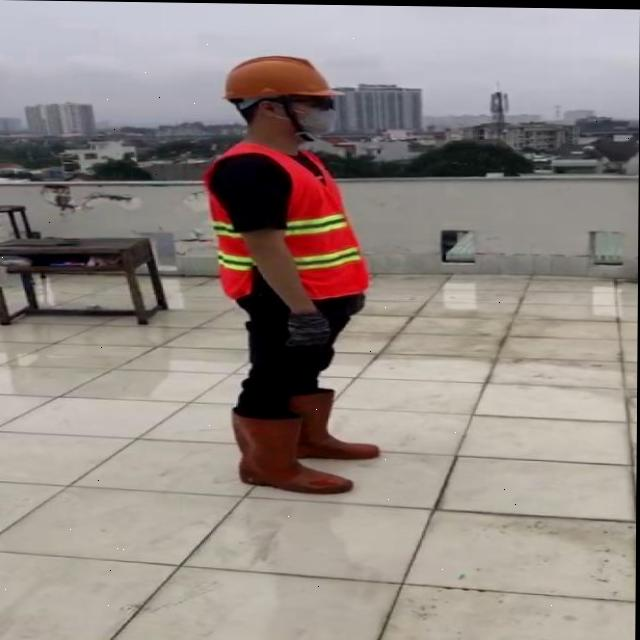Gloves: (284, 307, 332, 348)
Helmet: (221, 54, 345, 106)
Safety-Boot: (230, 406, 354, 493), (287, 386, 380, 458)
Safety-Vest: (203, 140, 370, 302)
